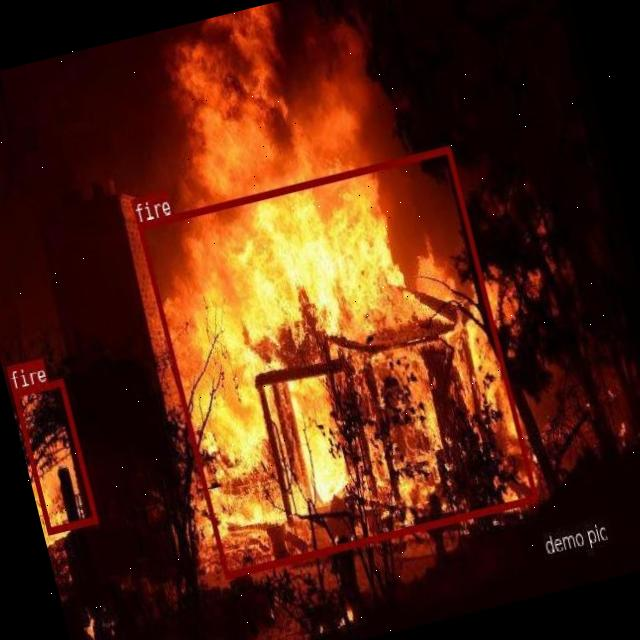fire: (136, 145, 537, 578), (11, 378, 97, 534)
